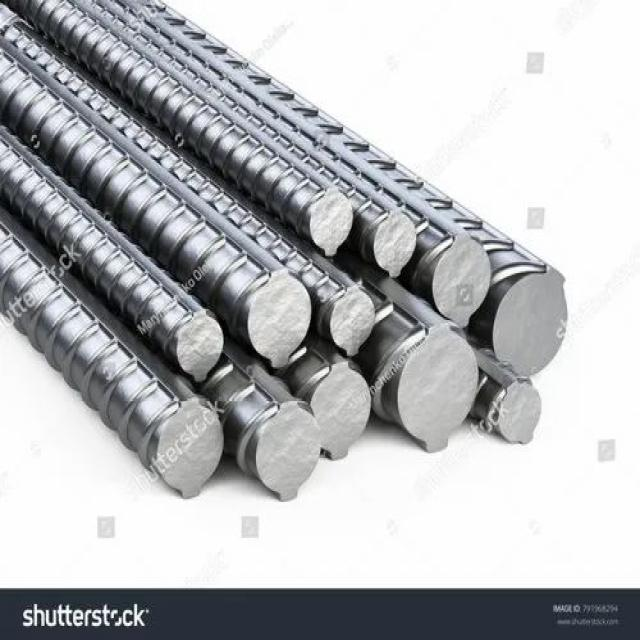Rebar: (393, 318, 478, 454), (245, 270, 325, 370), (498, 265, 571, 374), (155, 397, 230, 503), (254, 395, 326, 502), (434, 234, 499, 327), (310, 364, 375, 457), (324, 282, 389, 360), (176, 306, 232, 382), (489, 378, 548, 444), (309, 184, 360, 256), (374, 215, 424, 274)
